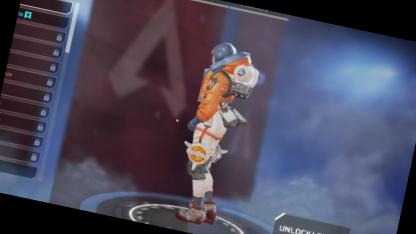Target: (174, 36, 266, 198)
